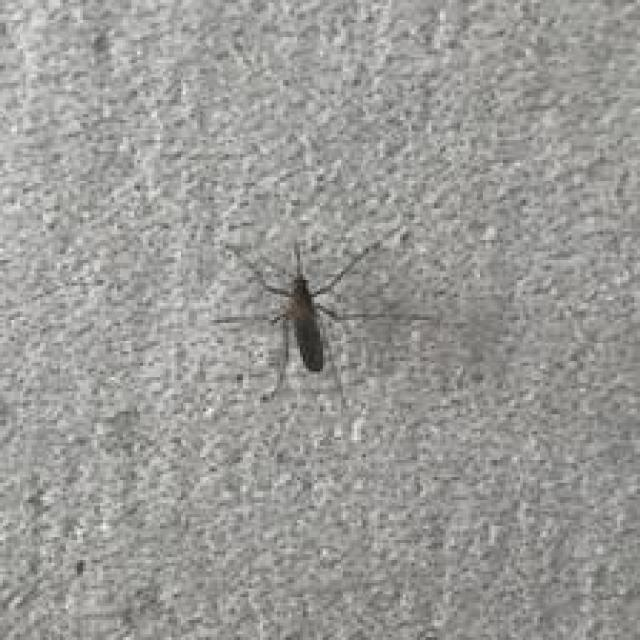Culex: (210, 217, 424, 403)
